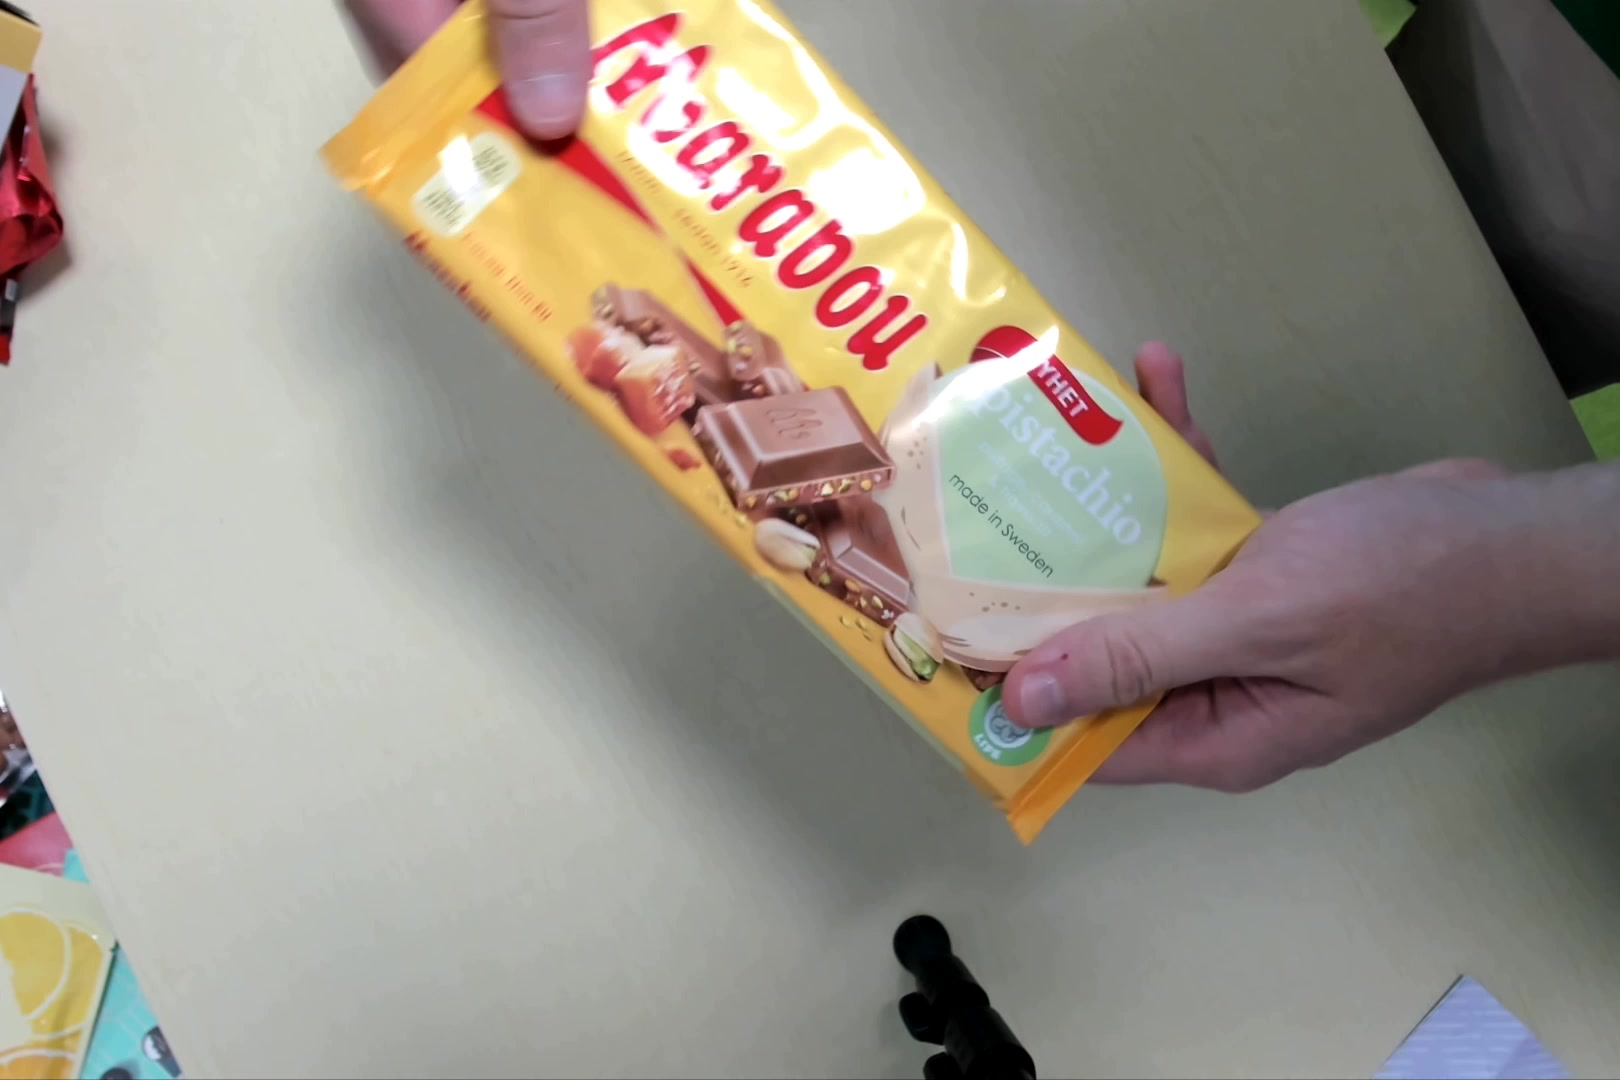SweetsChocolatesOthers_100-199g_NonHalal_NonHealthy: (319, 10, 1264, 856)
